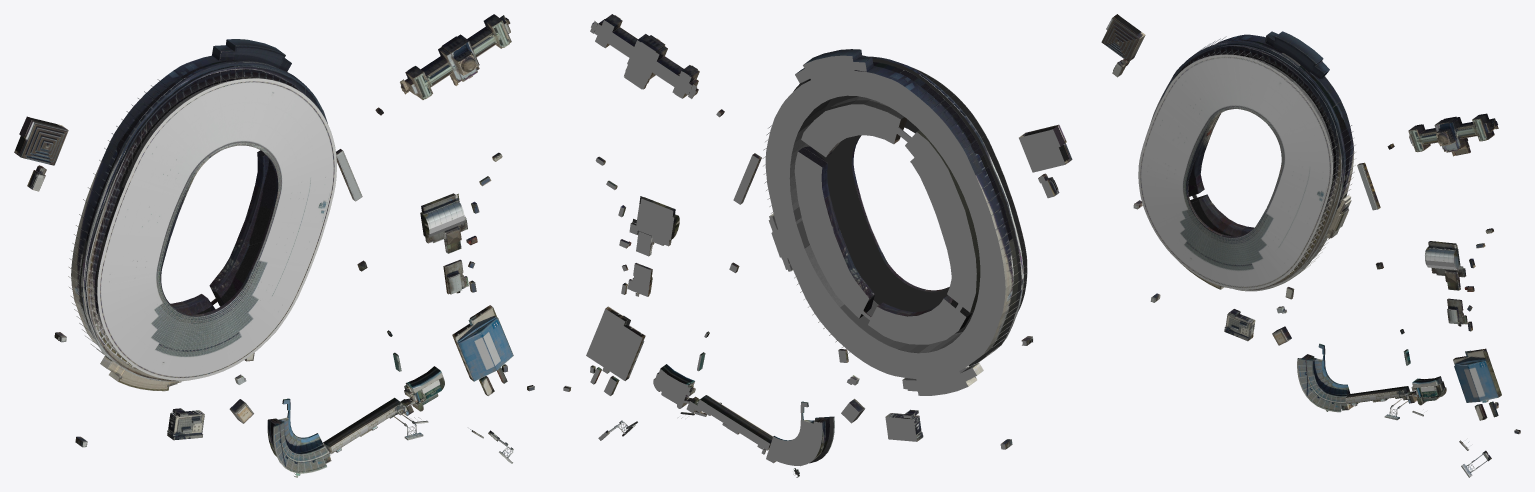
File: 533945171_bldg_6677.obj
3 renders of one model, left to right at view 1: azimuth 30°, elevation 25°; view 2: azimuth 150°, elevation 25°; view 3: azimuth 330°, elevation 25°, orthographic. The views are drawn at different scales.
Size of the model in its own units: 565 by 490 by 52.93.
Materials: 41 (41 with a texture image).
